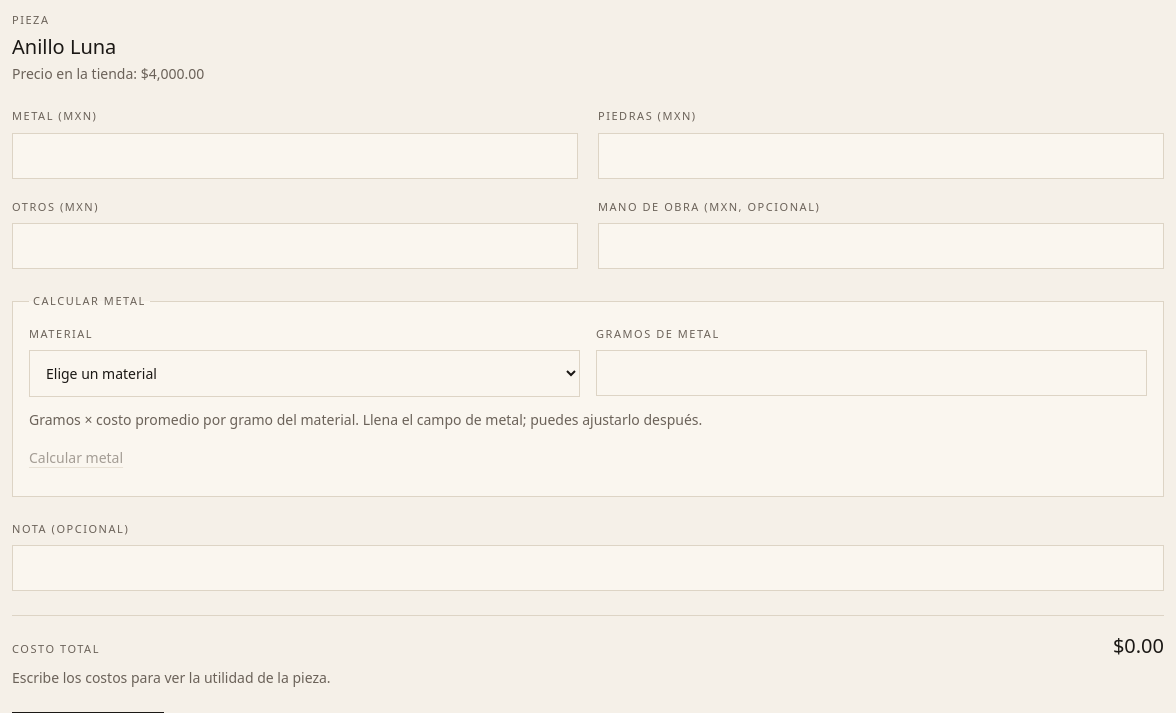
Test: PieceCostForm: Calcular metal › fills the metal field with grams x the material's average cost per gram
Select "Plata fina · $18.00 / g" in the dropdown labelled "Material" at (304, 374), box top-left (29, 350), bottom-right (580, 397)
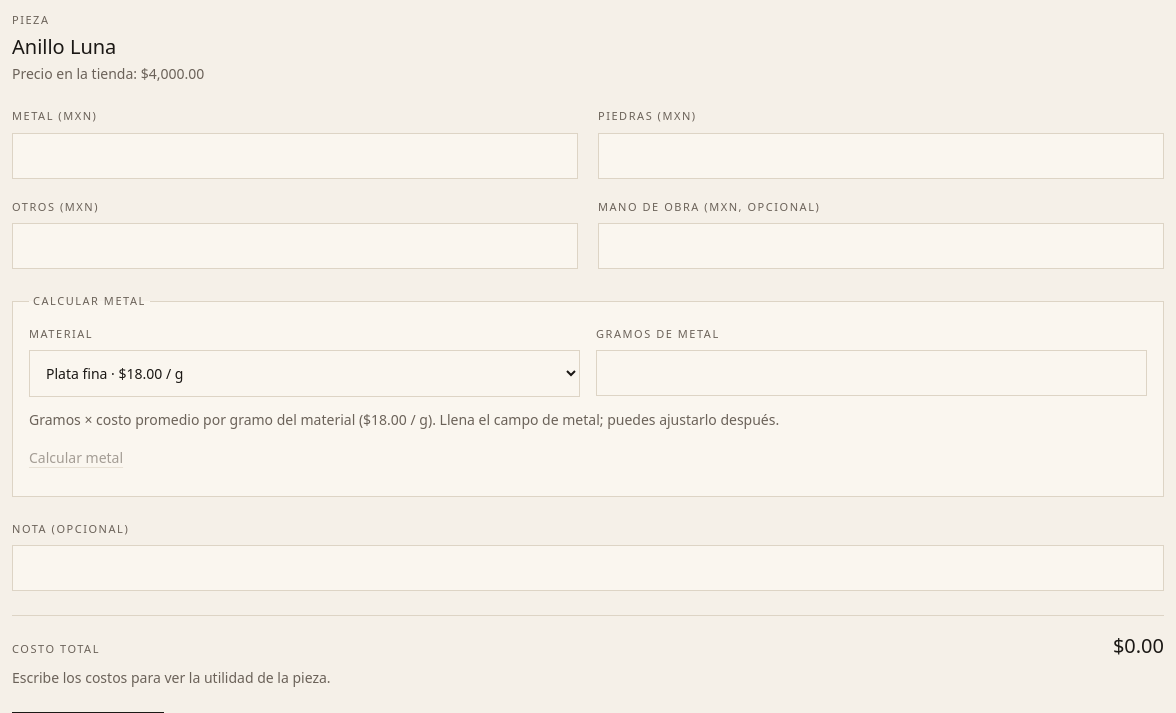
Type "12.5" into the number field labelled "Gramos de metal" at (872, 373), box top-left (596, 350), bottom-right (1147, 396)
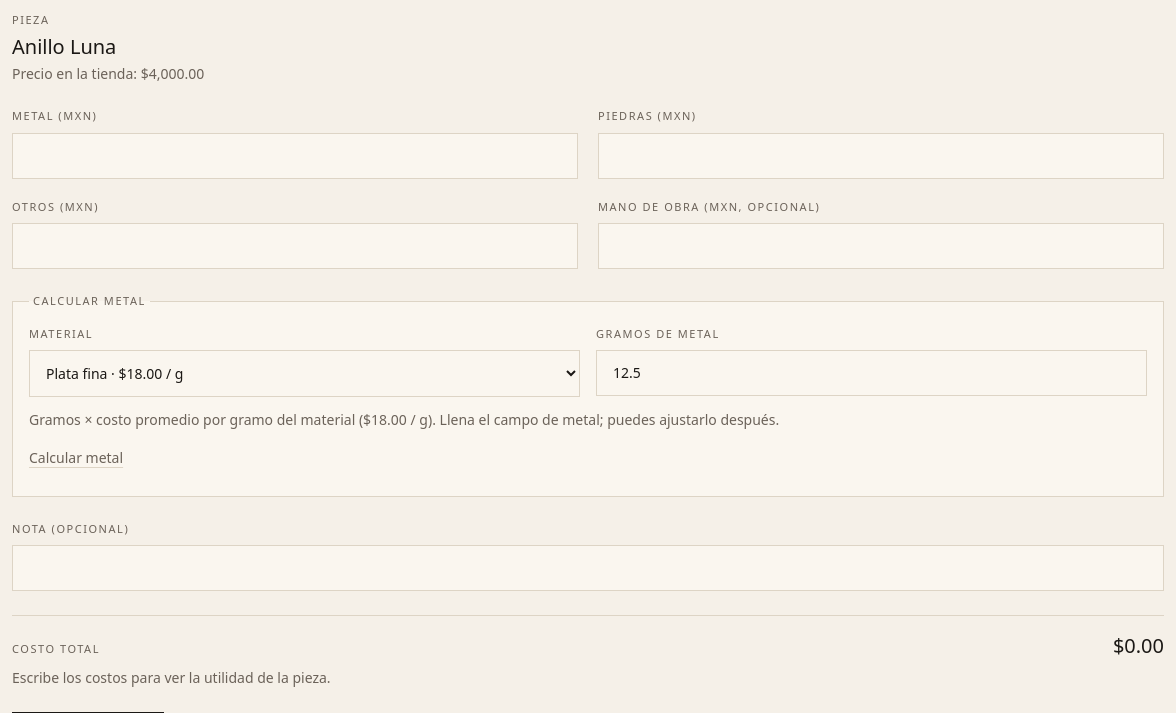
Click the button "Calcular metal" at (76, 458), box top-left (29, 436), bottom-right (123, 480)
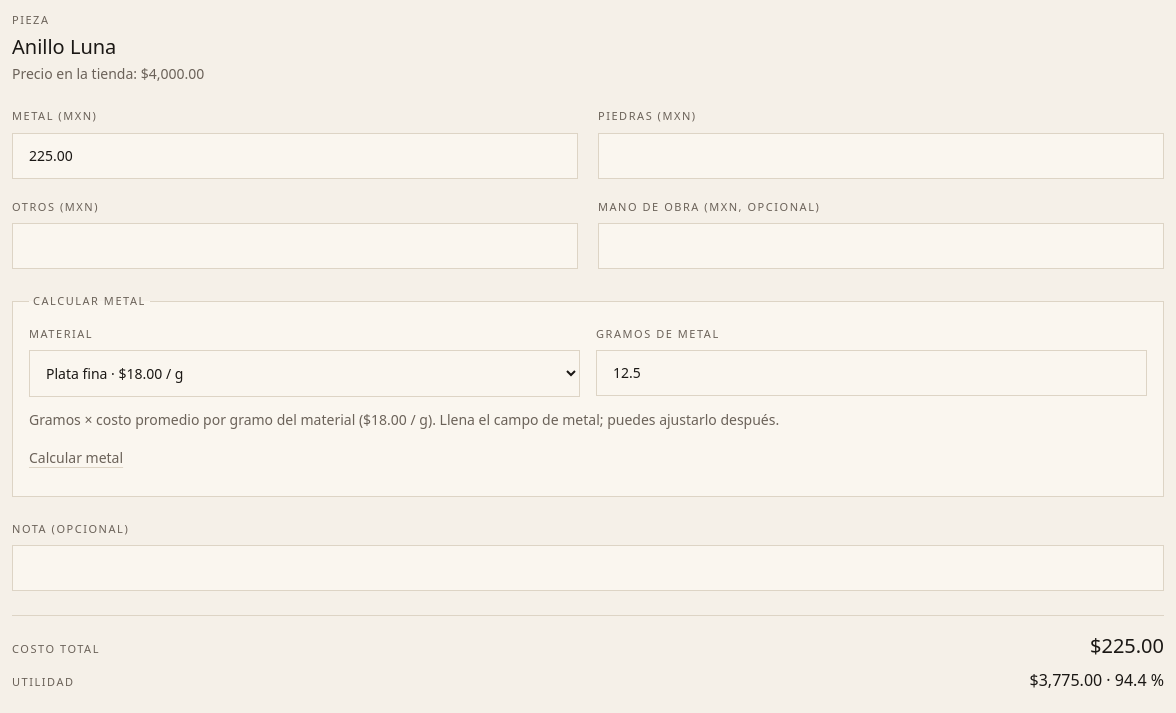
Now the number field labelled "Metal (MXN)" holds "225", box top-left (12, 132), bottom-right (578, 178)
